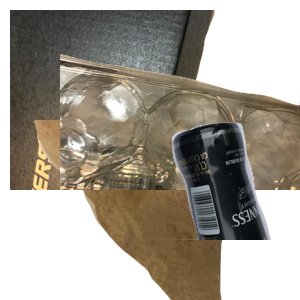cardboard: (10, 10, 217, 190)
glass: (106, 120, 300, 300)
plastic: (60, 52, 300, 232)
trash: (32, 120, 248, 300)
